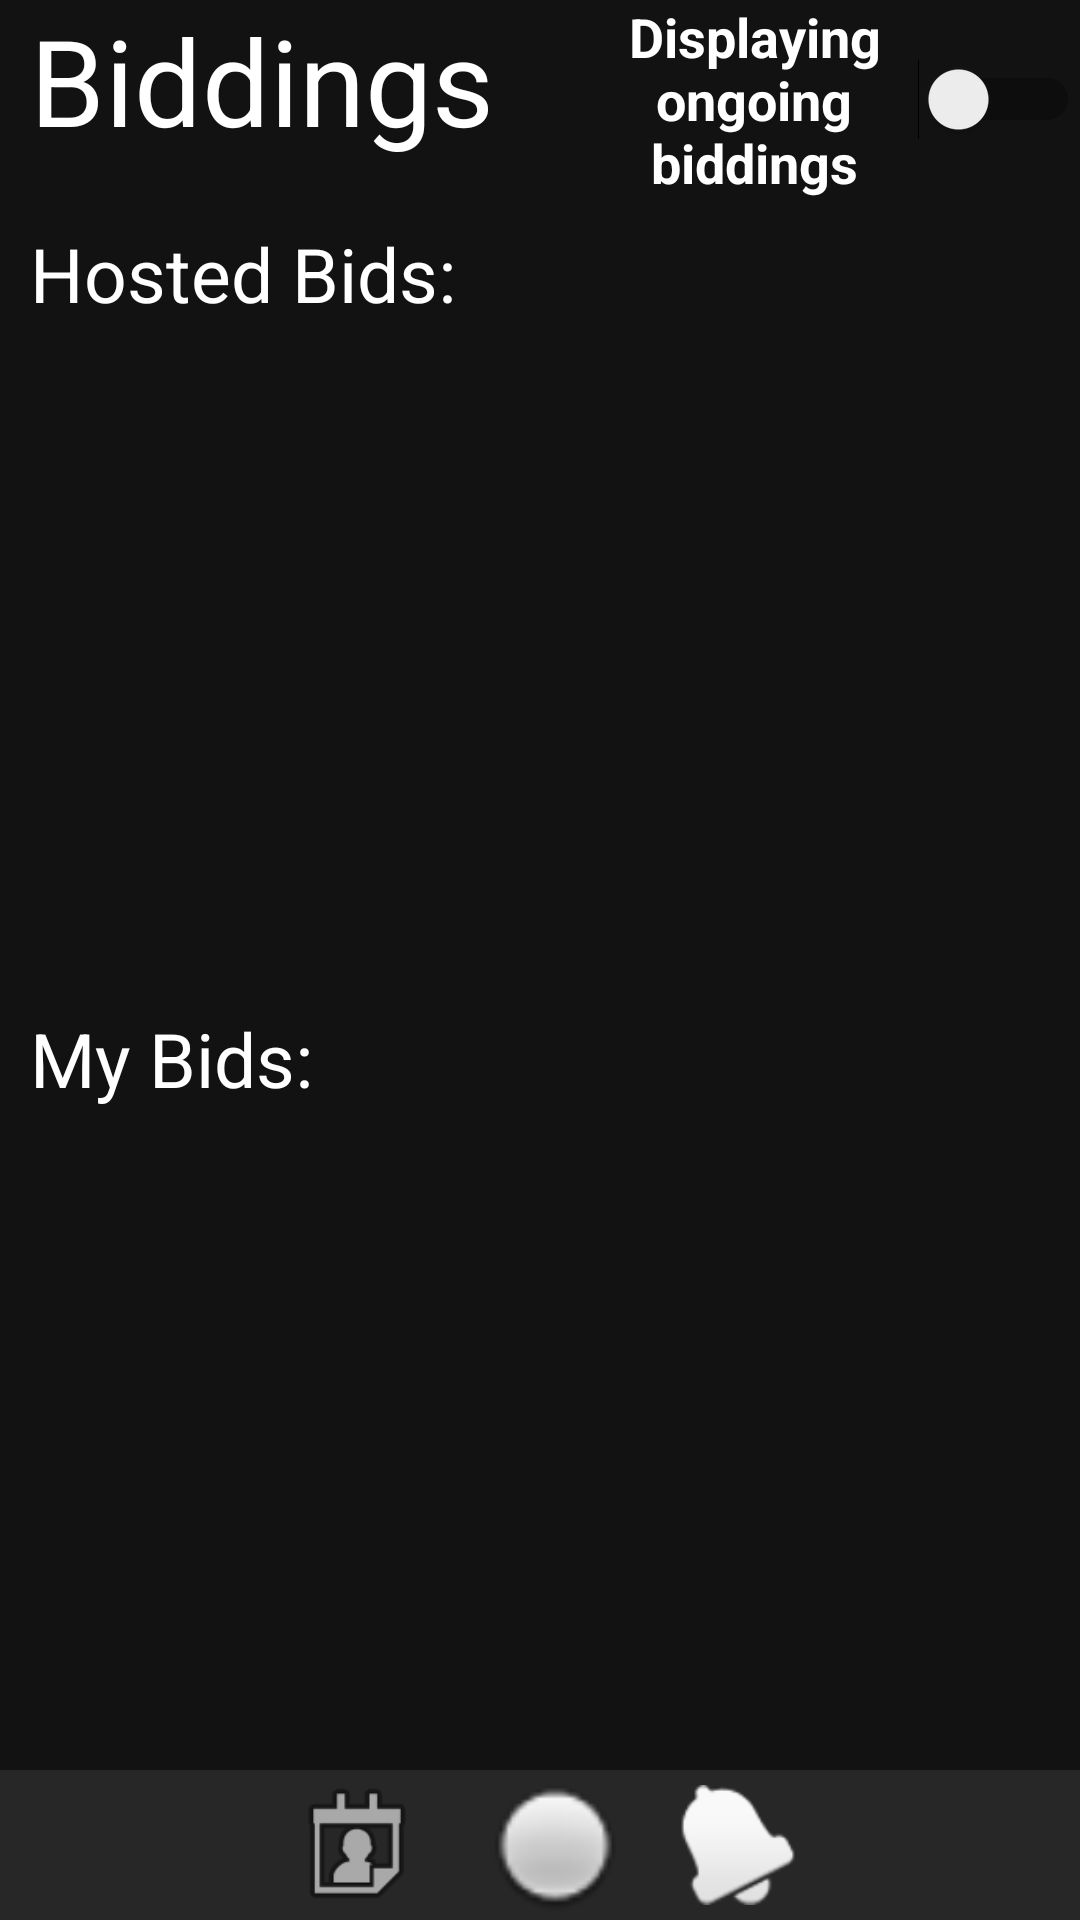

Icon bounding boxes for this 1080 × 1920 phone screenshot, format (x1, y1, x2, y2):
calendar: (313, 1793, 401, 1894)
popup reminder: (681, 1785, 795, 1905)
